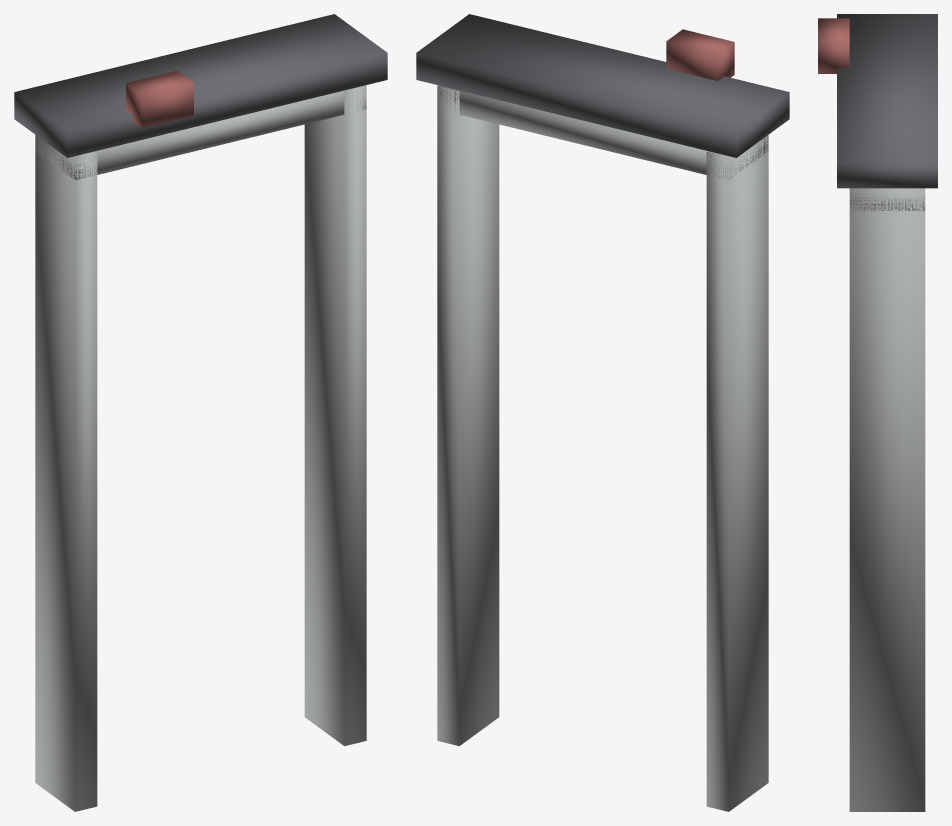
The model's file is doorway_fire_rated_w86_h210_d24.glb.
The picture shows the model from 3 angles, left to right: view 1: azimuth 30°, elevation 25°; view 2: azimuth 150°, elevation 25°; view 3: azimuth 270°, elevation 25°; orthographic projection. The views are drawn at different scales.
Parts seen in each view (by area): view 1: world; view 2: world; view 3: world.
Part boxes in pixels (x1,y1,x2,y2): world: (14,14,387,811); world: (416,14,789,811); world: (818,14,937,811).
Size of the model in its own units: 1.11 by 2.38 by 0.38.
